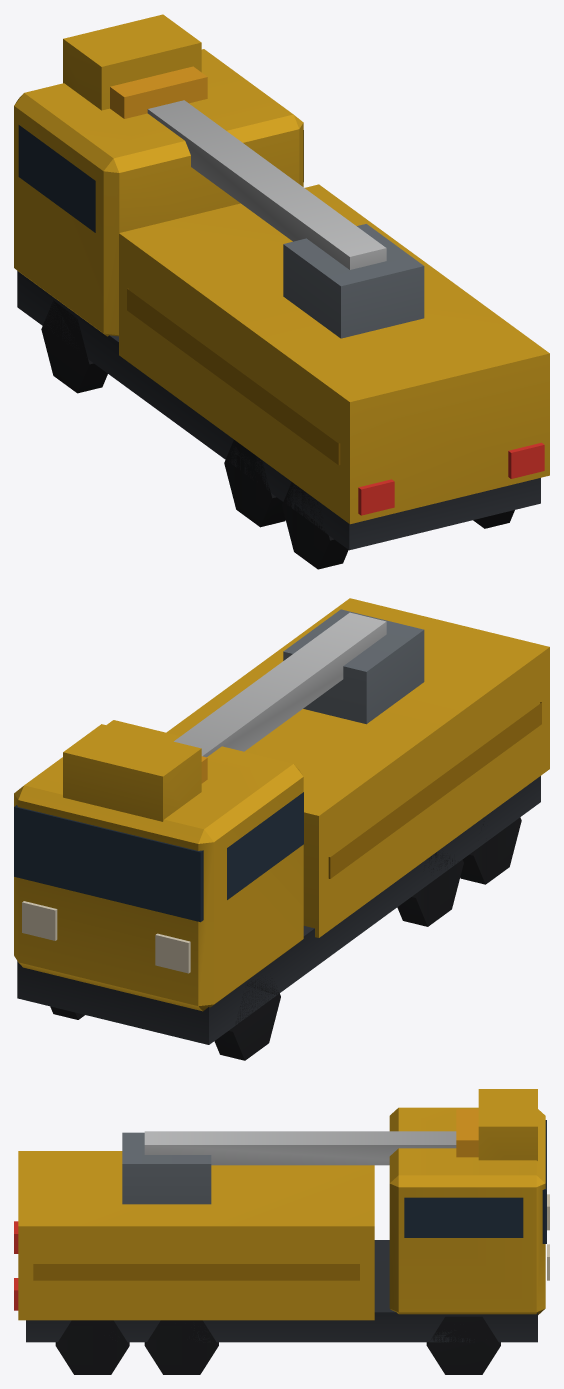
File: truck_crew.fbx
3 views of the same model, one above another, from view 1: azimuth 30°, elevation 25°; view 2: azimuth 150°, elevation 25°; view 3: azimuth 270°, elevation 25° (orthographic). The views are drawn at different scales.
Parts seen in each view (by area): view 1: truck_crew; view 2: truck_crew; view 3: truck_crew.
Boxes of the visible parts, x1,y1,x2,y2 form: truck_crew: [14, 14, 549, 569]; truck_crew: [14, 598, 549, 1060]; truck_crew: [14, 1089, 549, 1374].
Bounding box in the file's own units: 2.5 × 3.43 × 7.22.
